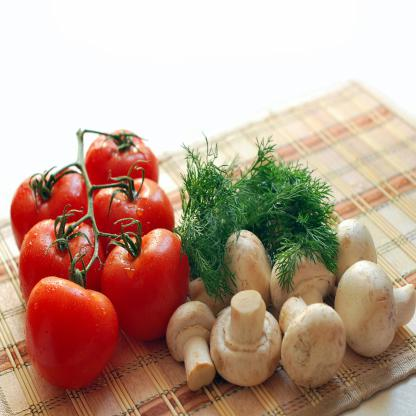mushroom: (336, 262, 416, 358), (211, 288, 278, 380), (279, 294, 346, 385), (166, 299, 216, 389)
tomato: (26, 275, 119, 392), (102, 228, 190, 347), (19, 213, 104, 304), (8, 164, 90, 242), (90, 183, 176, 241), (84, 131, 160, 192)
